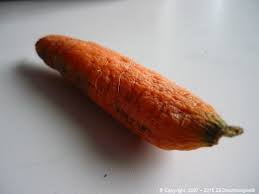carrot: (32, 30, 241, 157)
